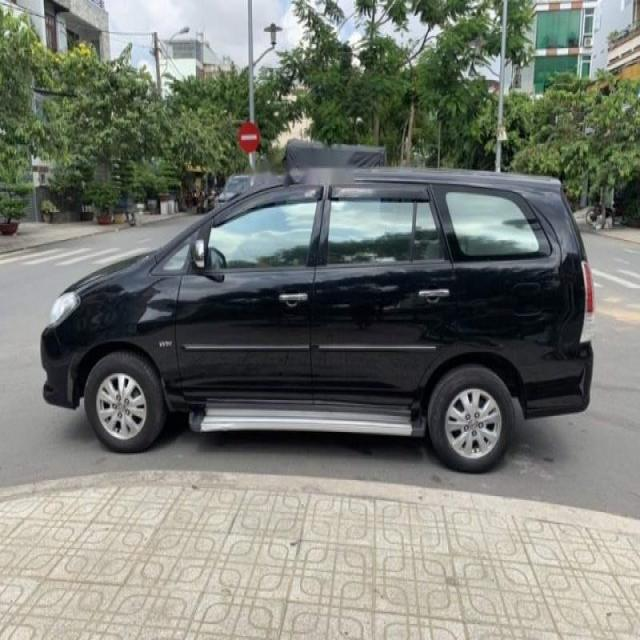light_vehicle: (40, 165, 596, 474)
